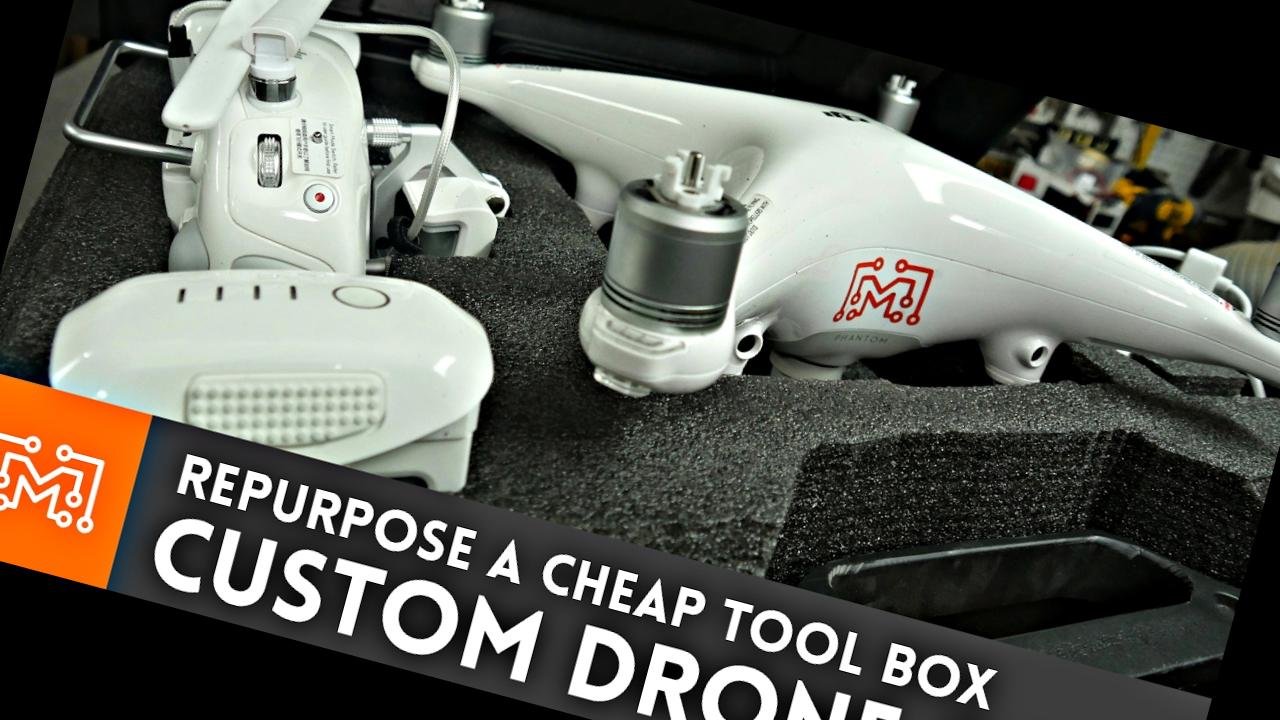drone: (306, 0, 1280, 509)
